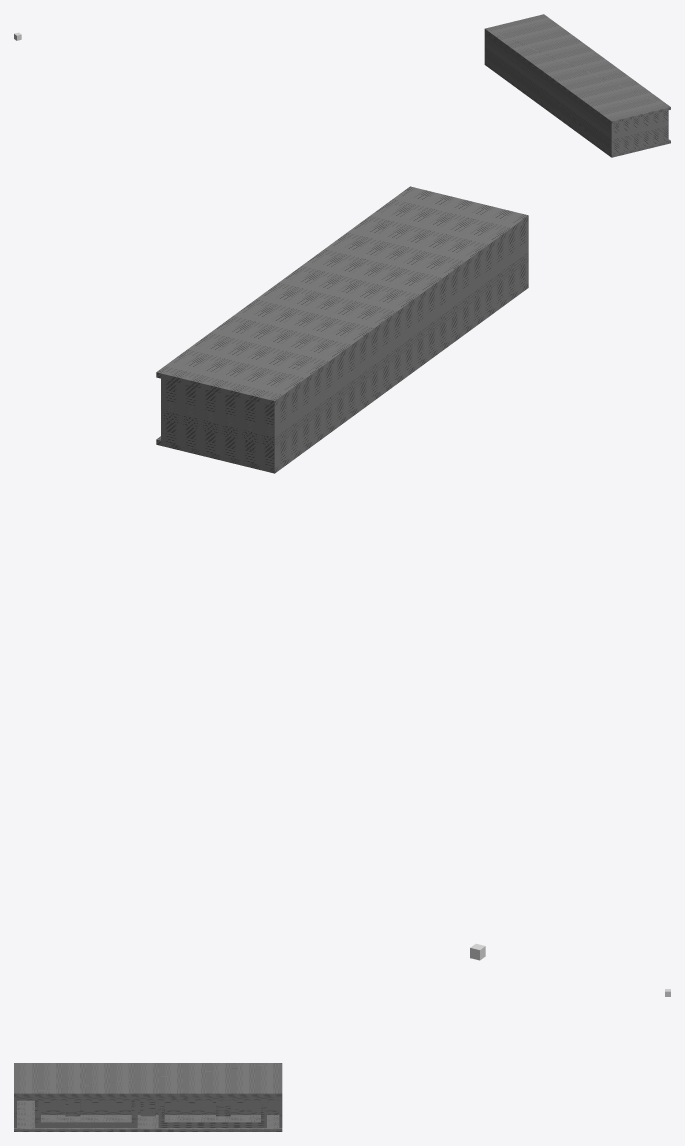
The model's file is BLDG_42_F2.glb.
The picture shows the model from 3 angles, top to bottom: view 1: azimuth 30°, elevation 25°; view 2: azimuth 150°, elevation 25°; view 3: azimuth 270°, elevation 25°; orthographic projection. The views are drawn at different scales.
Parts seen in each view (by area): view 1: BLDG_42_F2; view 2: BLDG_42_F2; view 3: BLDG_42_F2.
Boxes of the visible parts, x1=… form: BLDG_42_F2: x1=484, y1=14, x2=670, y2=157; BLDG_42_F2: x1=156, y1=186, x2=528, y2=473; BLDG_42_F2: x1=14, y1=1063, x2=282, y2=1131.
Bounding box in the file's own units: 140 × 29 × 218.
3 materials, 2 textured.
